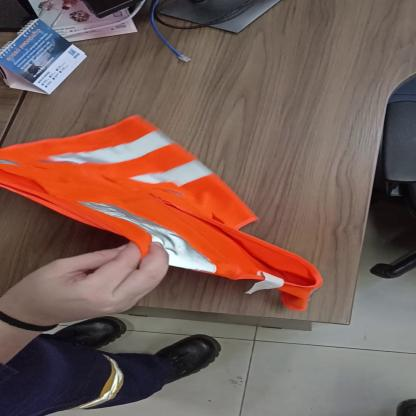colete: (8, 120, 327, 301)
